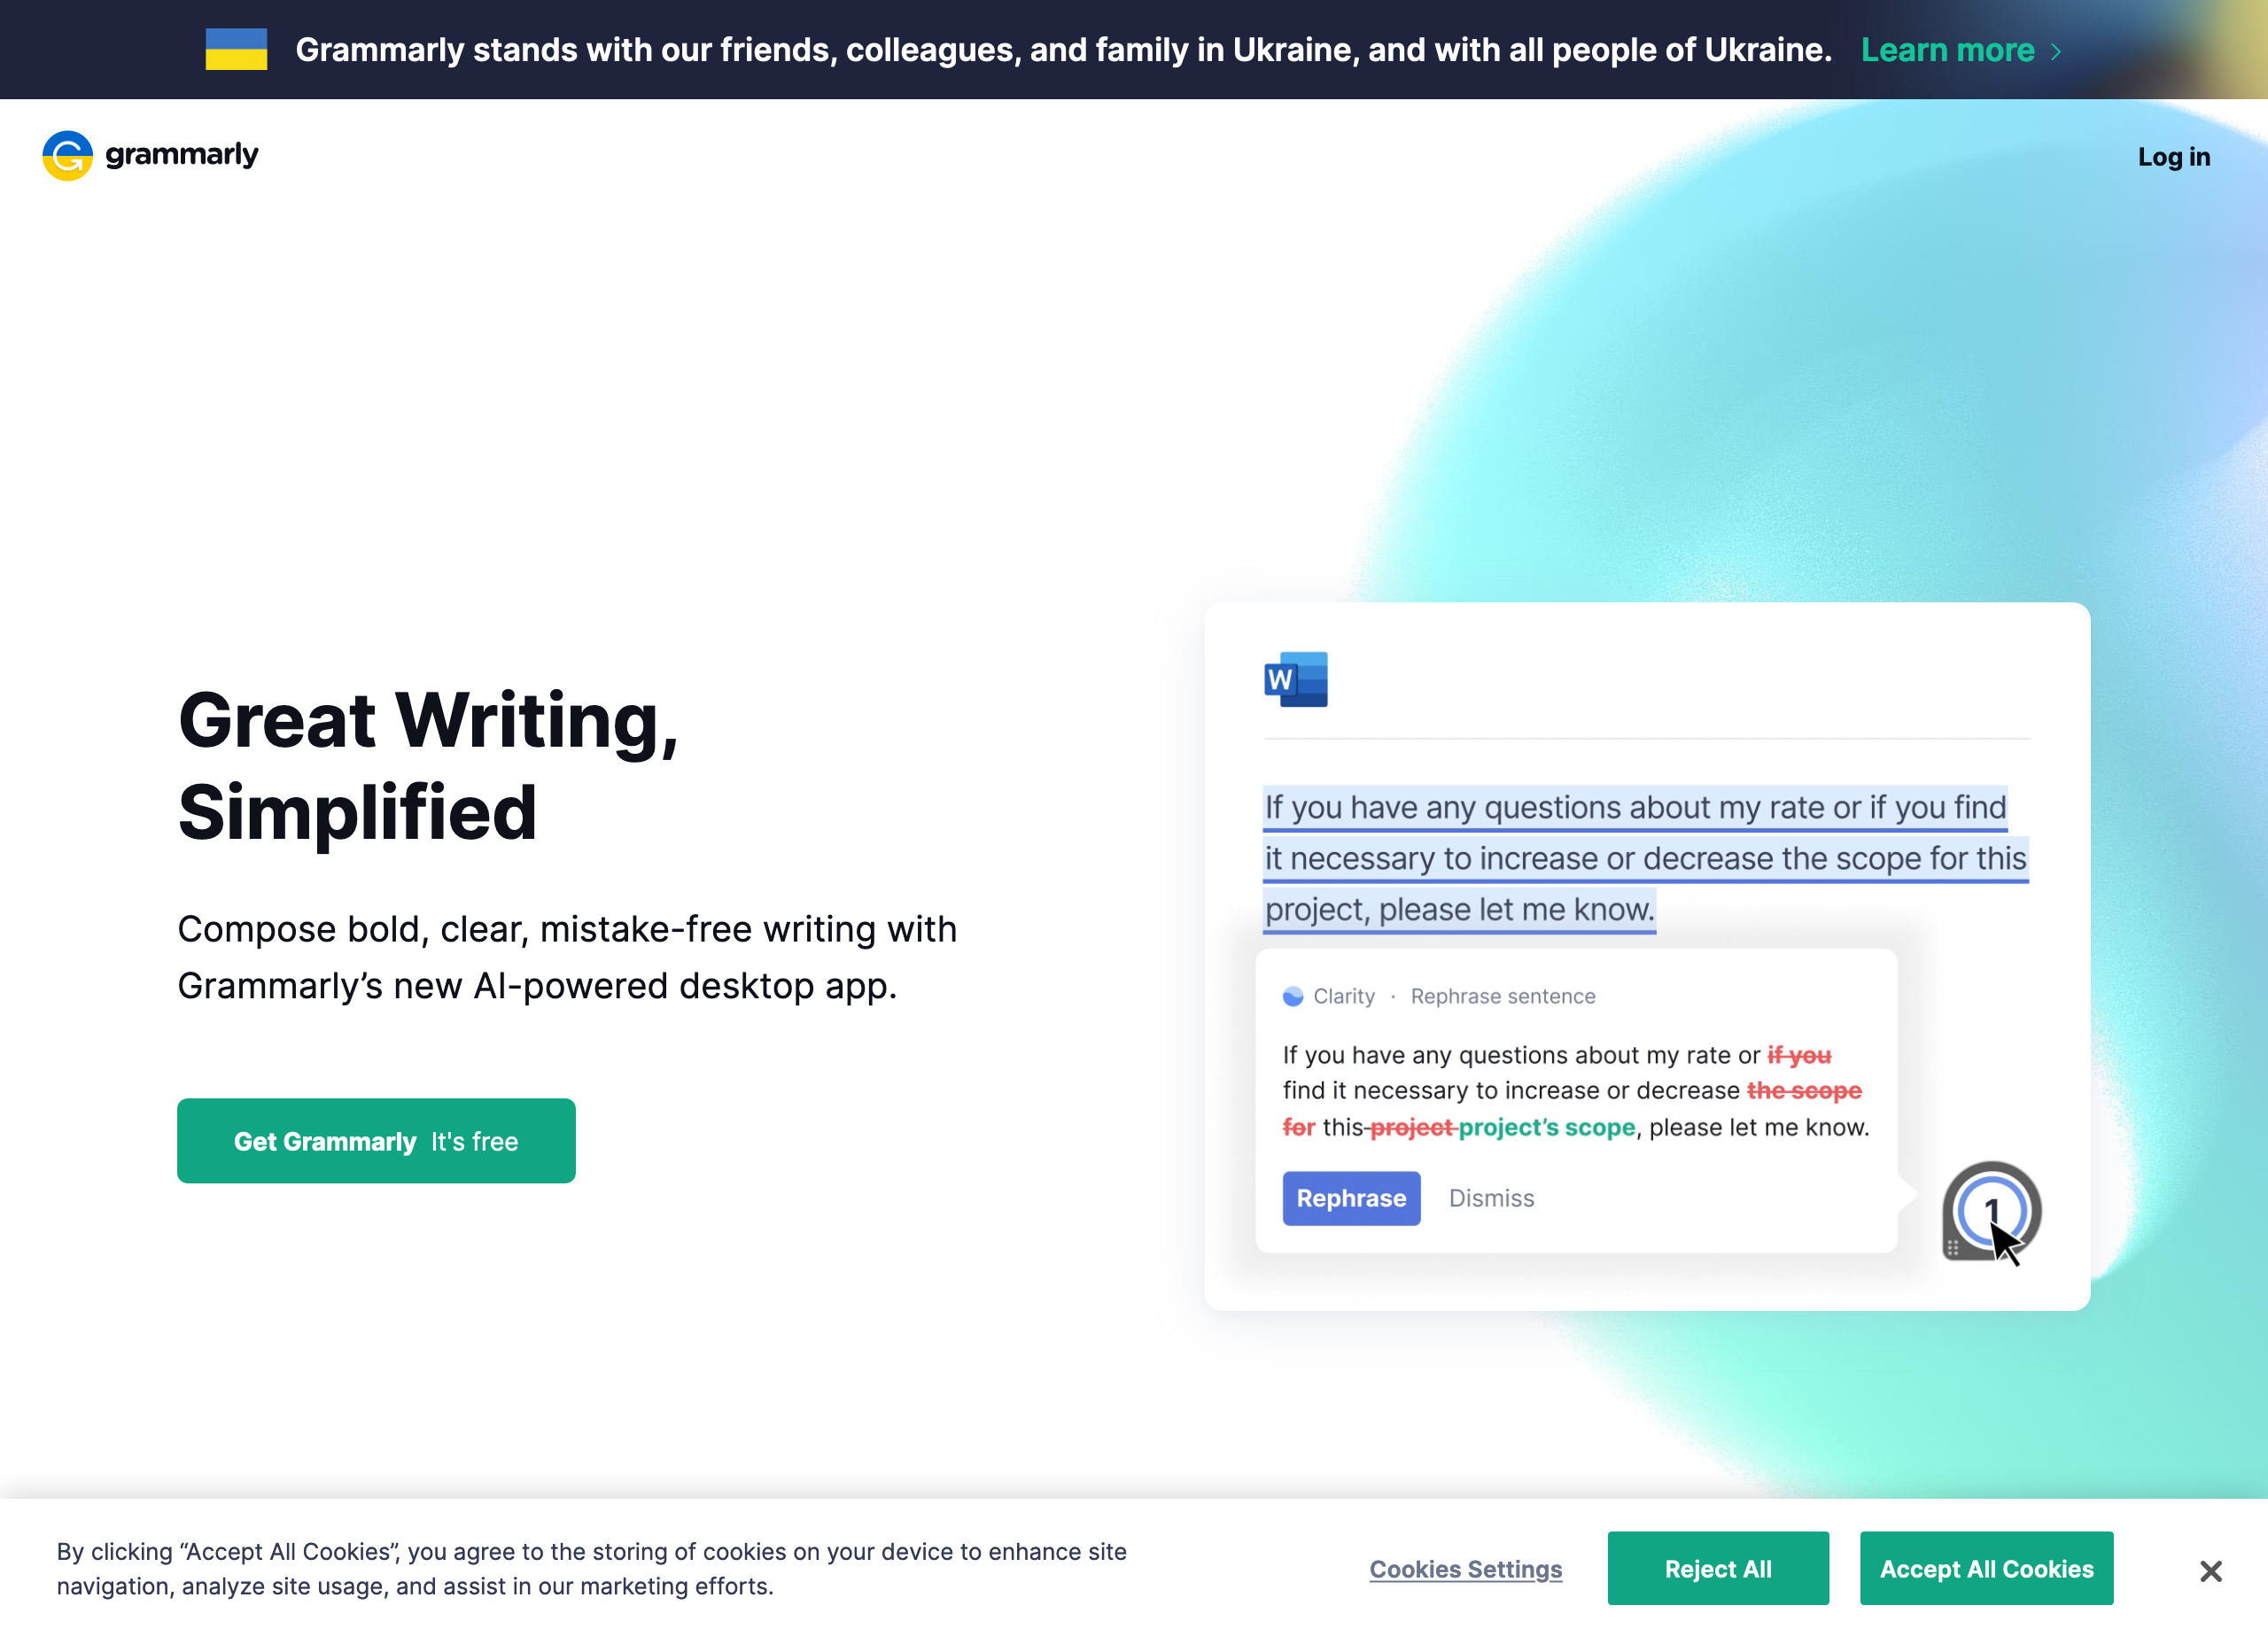Login: (2122, 128, 2220, 181)
